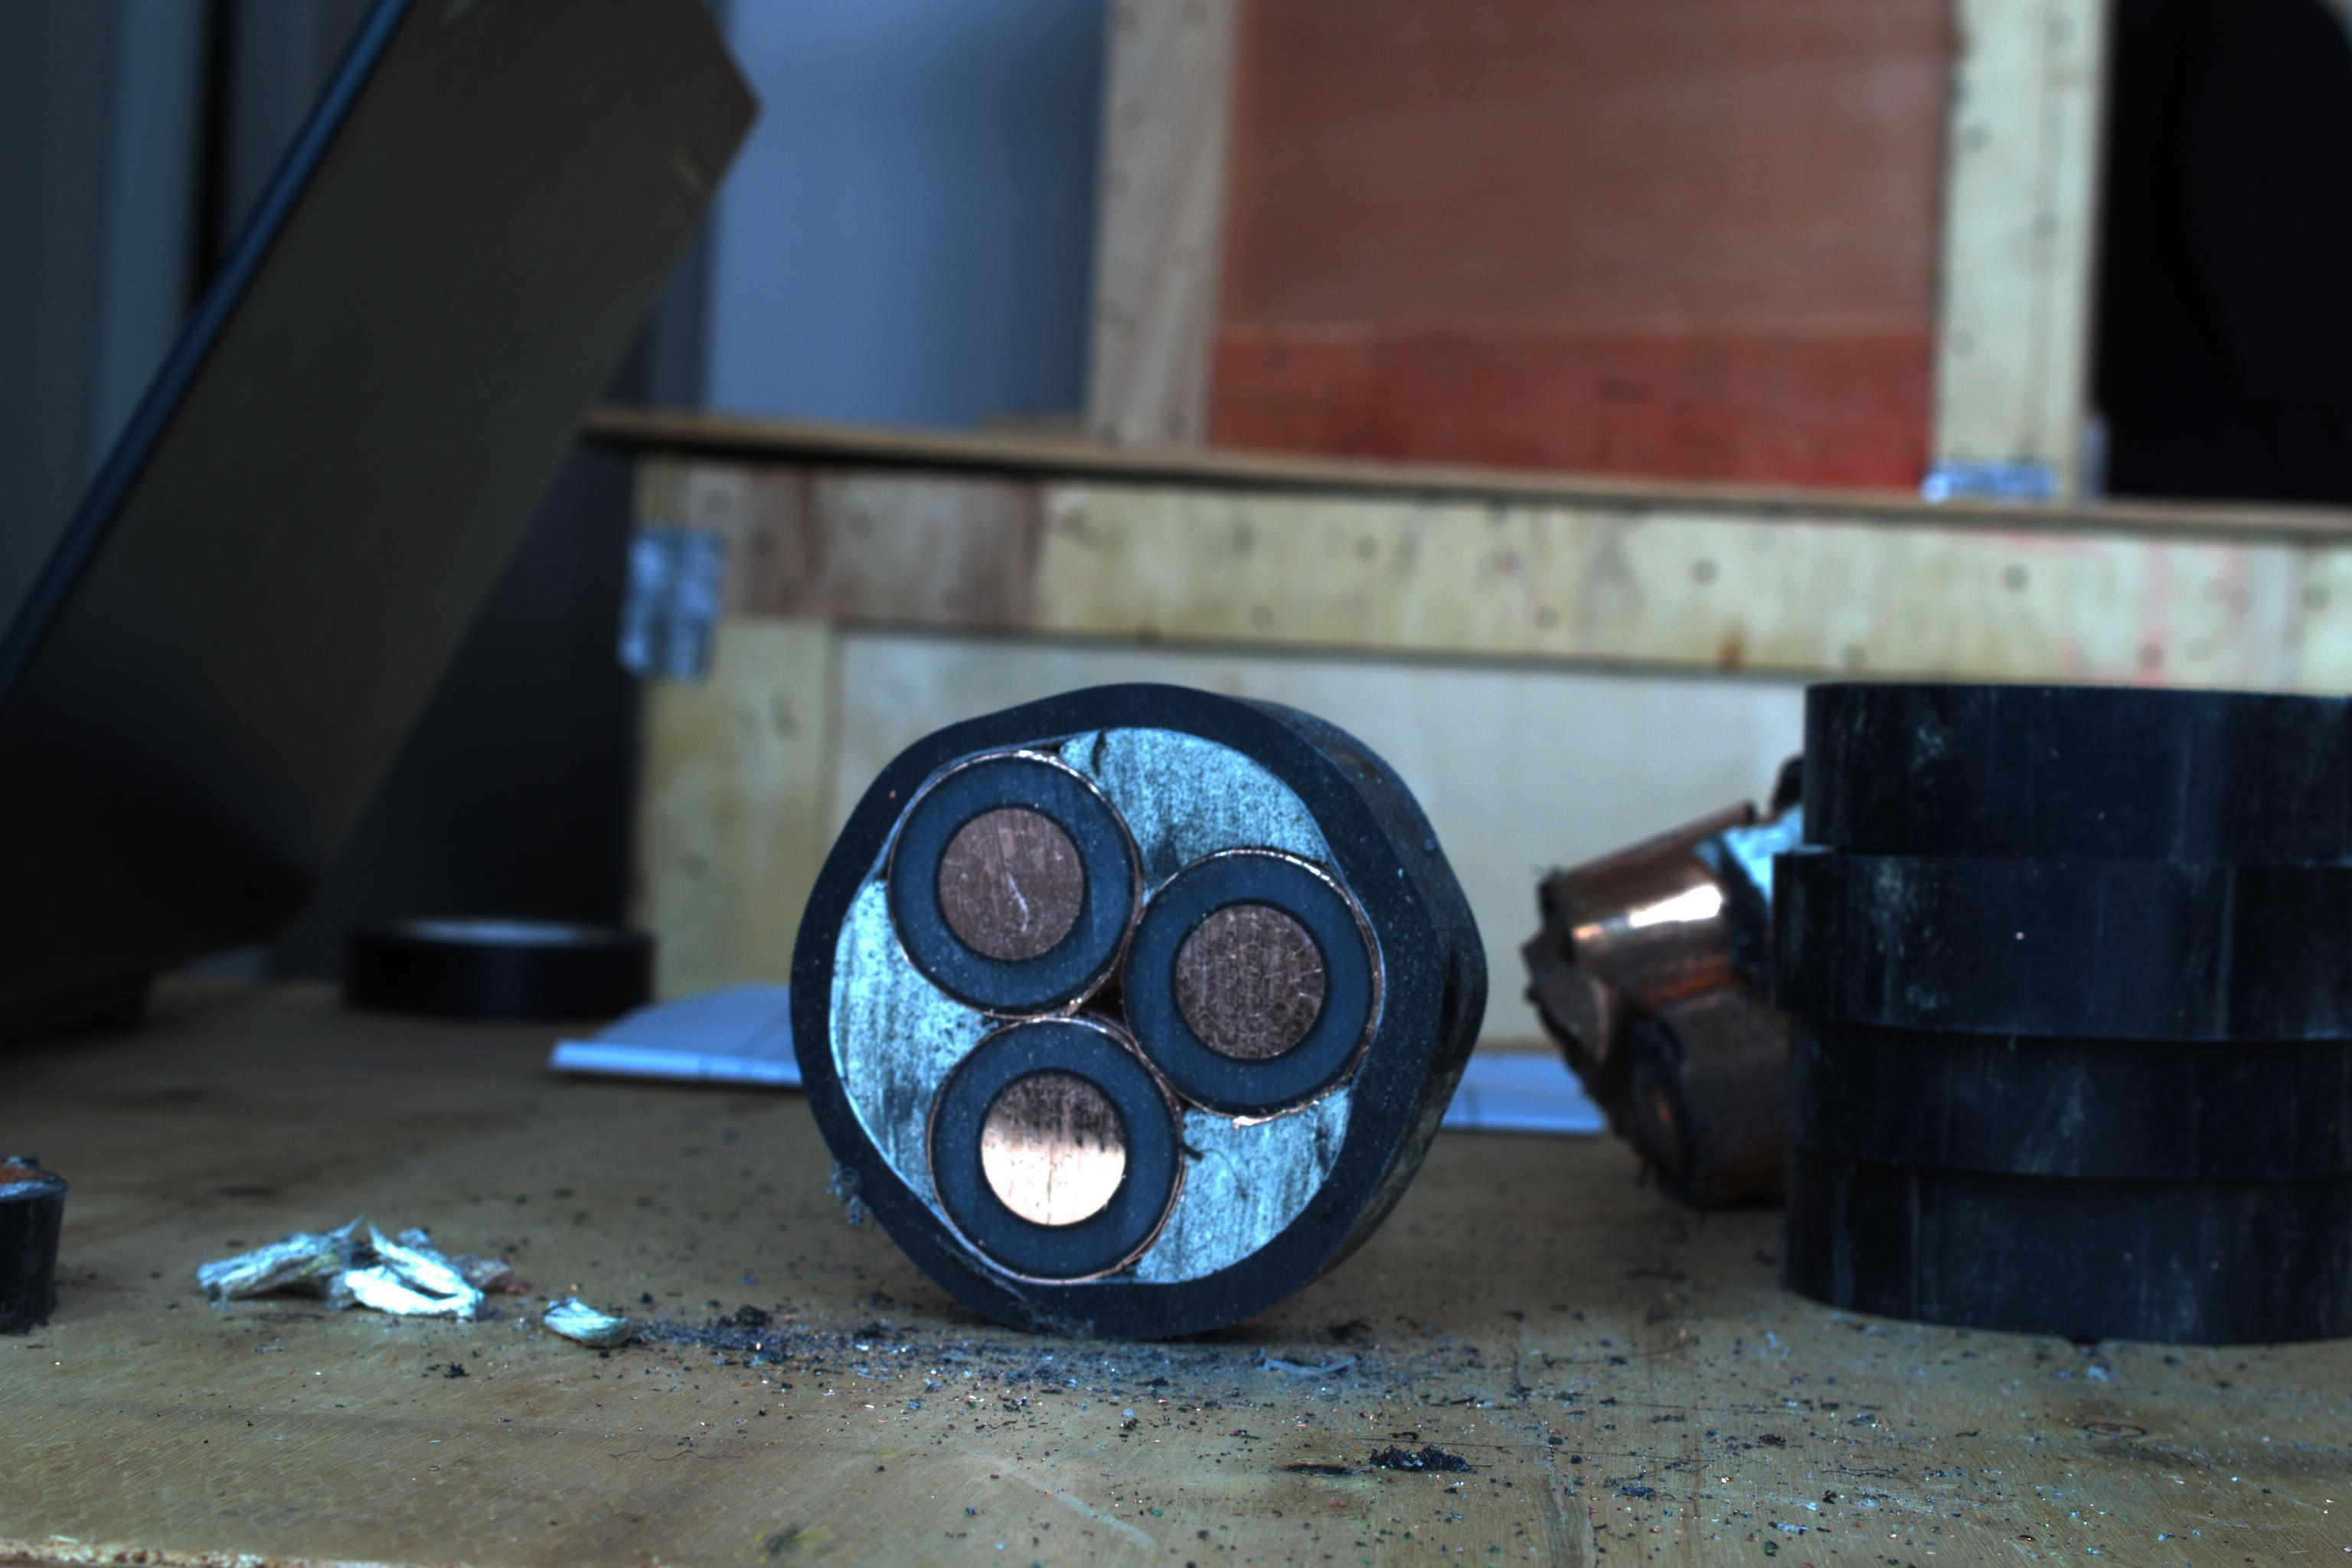ZA_YJV_8.7_10kV_3x240: (805, 693, 1423, 1319)
